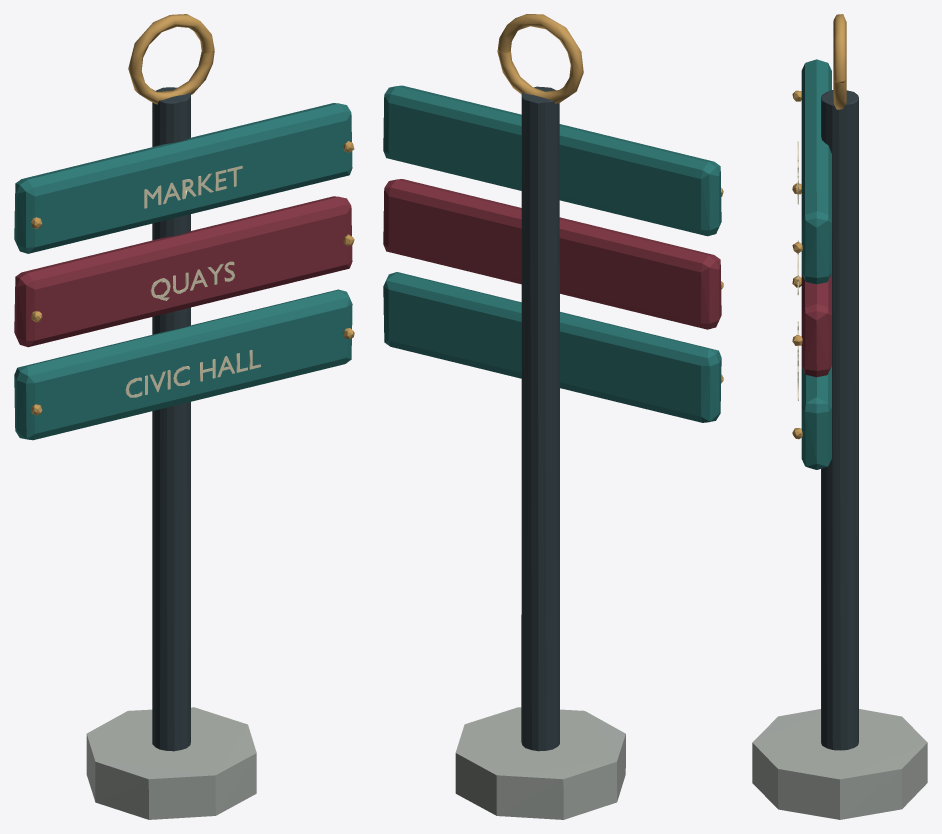
File: prop_aegis_civic_waymarker_lod1.glb
The picture shows the model from 3 angles, left to right: view 1: azimuth 30°, elevation 25°; view 2: azimuth 150°, elevation 25°; view 3: azimuth 270°, elevation 25°; orthographic projection.
Visible parts, largest first — view 1: aegis_civic_waymarker.001; view 2: aegis_civic_waymarker.001; view 3: aegis_civic_waymarker.001.
Boxes of the visible parts, x1,y1,x2,y2 form: aegis_civic_waymarker.001: (14,14,354,819); aegis_civic_waymarker.001: (383,14,723,819); aegis_civic_waymarker.001: (752,14,927,819).
Bounding box in the file's own units: 1.65 × 3.62 × 0.7534.
